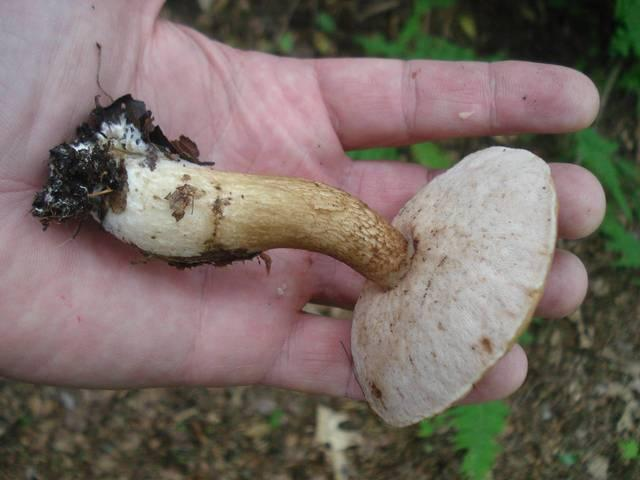Non-edible Mushroom: (32, 91, 560, 427)
